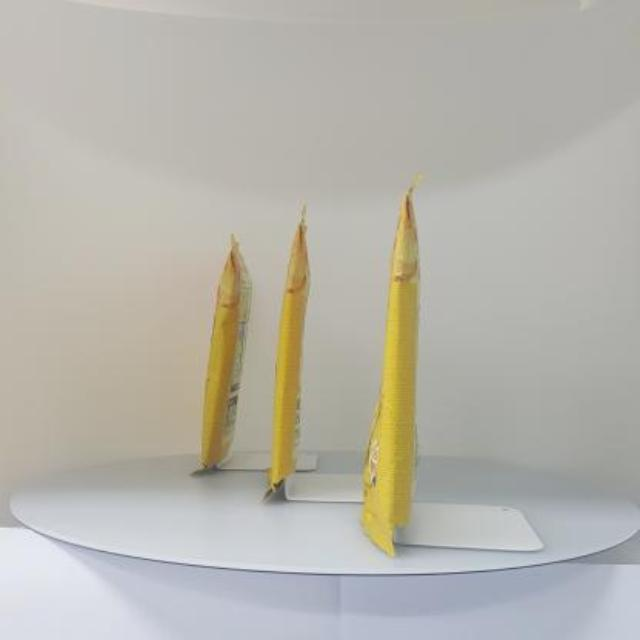snack_bag: (182, 164, 474, 574)
